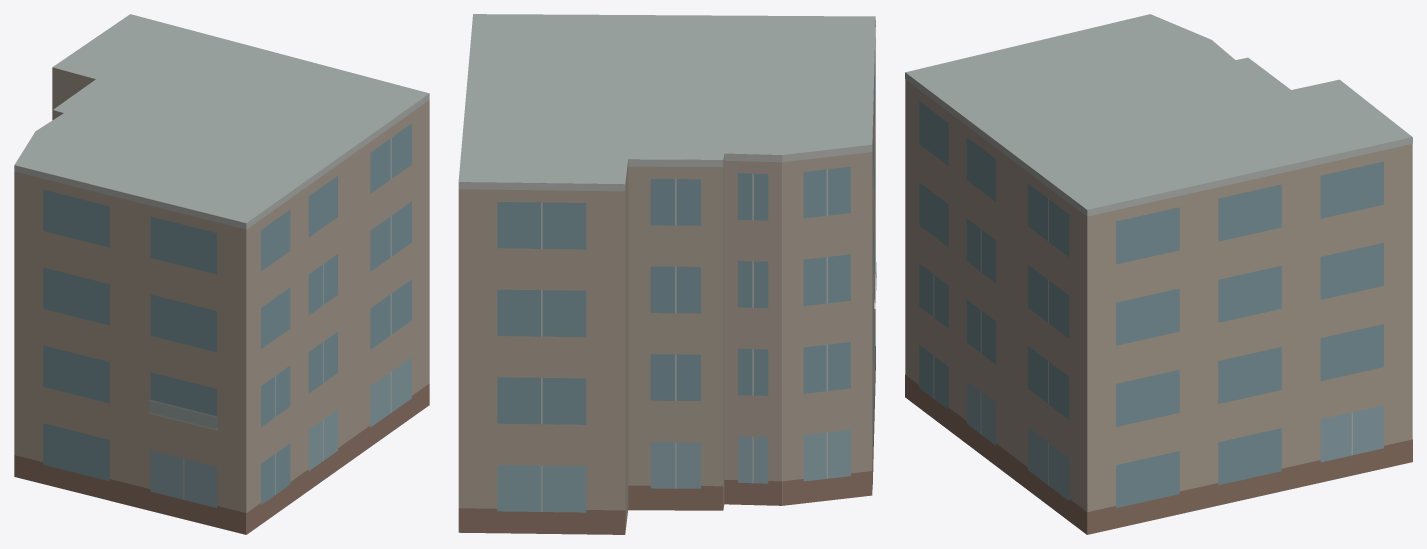
File: survey-upis-32724251.glb
3 renders of one model, left to right at view 1: azimuth 30°, elevation 25°; view 2: azimuth 150°, elevation 25°; view 3: azimuth 270°, elevation 25°, orthographic. The views are drawn at different scales.
Visible parts, largest first — view 1: survey-upis-32724251.tmp; view 2: survey-upis-32724251.tmp; view 3: survey-upis-32724251.tmp.
Boxes of the visible parts, x1=… form: survey-upis-32724251.tmp: x1=14, y1=14, x2=429, y2=534; survey-upis-32724251.tmp: x1=458, y1=14, x2=876, y2=534; survey-upis-32724251.tmp: x1=905, y1=14, x2=1412, y2=534.
Size of the model in its own units: 15.27 by 11.8 by 16.71.
